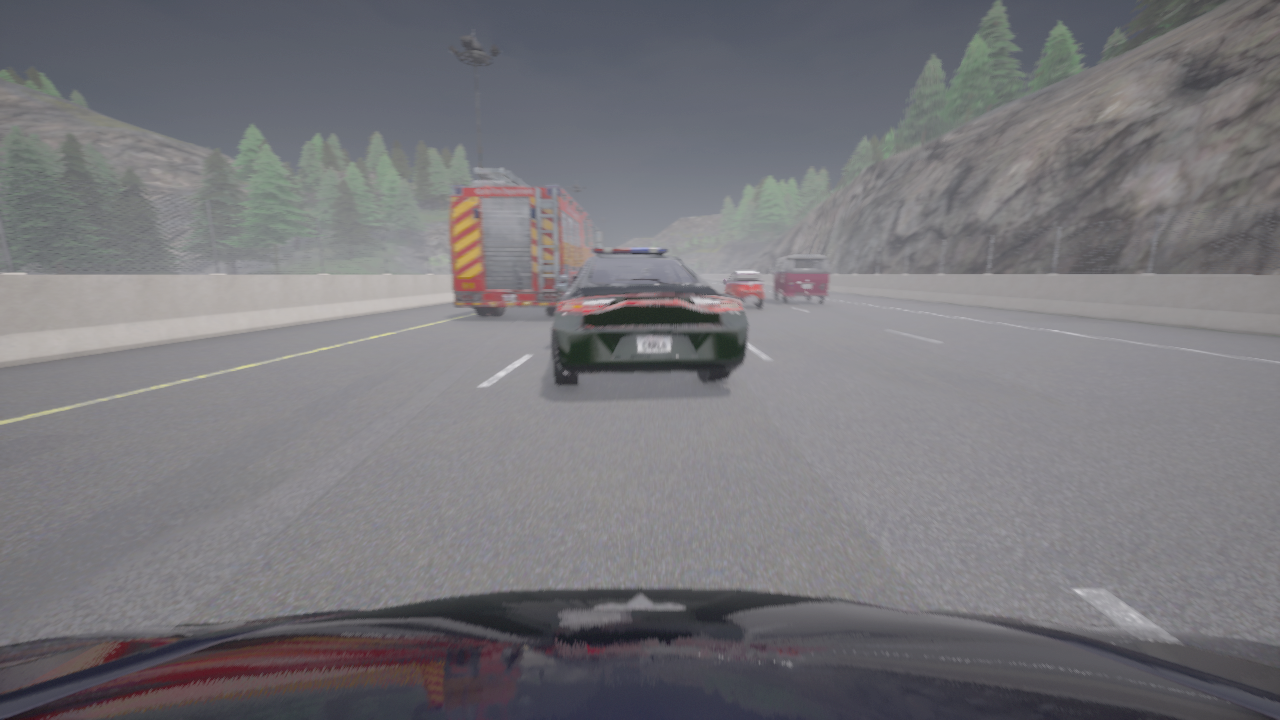cyclist: (0, 588, 1279, 719), (552, 247, 749, 385), (450, 167, 601, 315), (771, 255, 829, 303), (723, 269, 763, 308)
